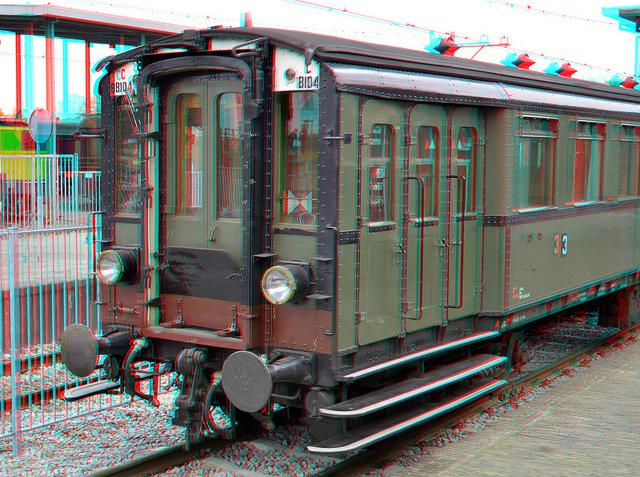Train: (61, 23, 640, 458)
